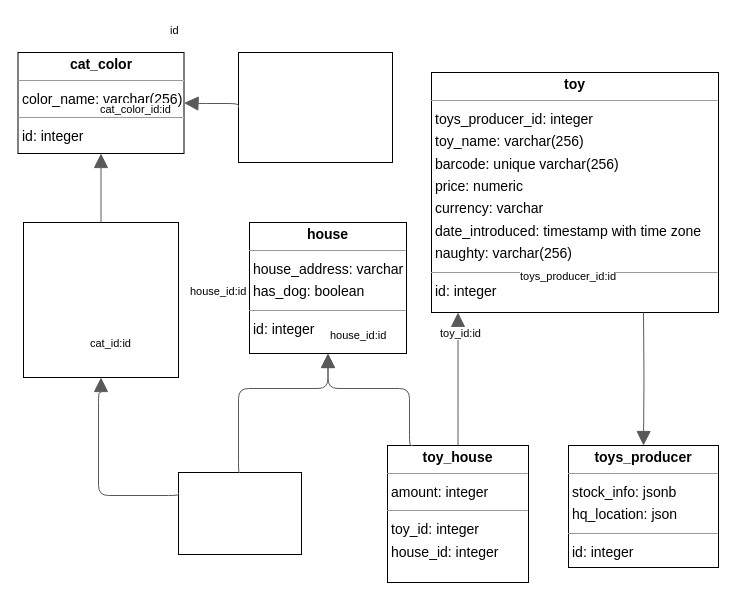
This 736x600 diagram has some shape labels left out. Here are the shapes that lost their labels. From the top down, the centre of each, then its label:
(x=315, y=107): color_hex hex_code: varchar(256) id: integer
(x=100, y=300): cat cat_color_id: integer cat_name: varchar(256) date_of_birth: date id: bigint
(x=240, y=513): house_cat house_id: integer cat_id: bigint
